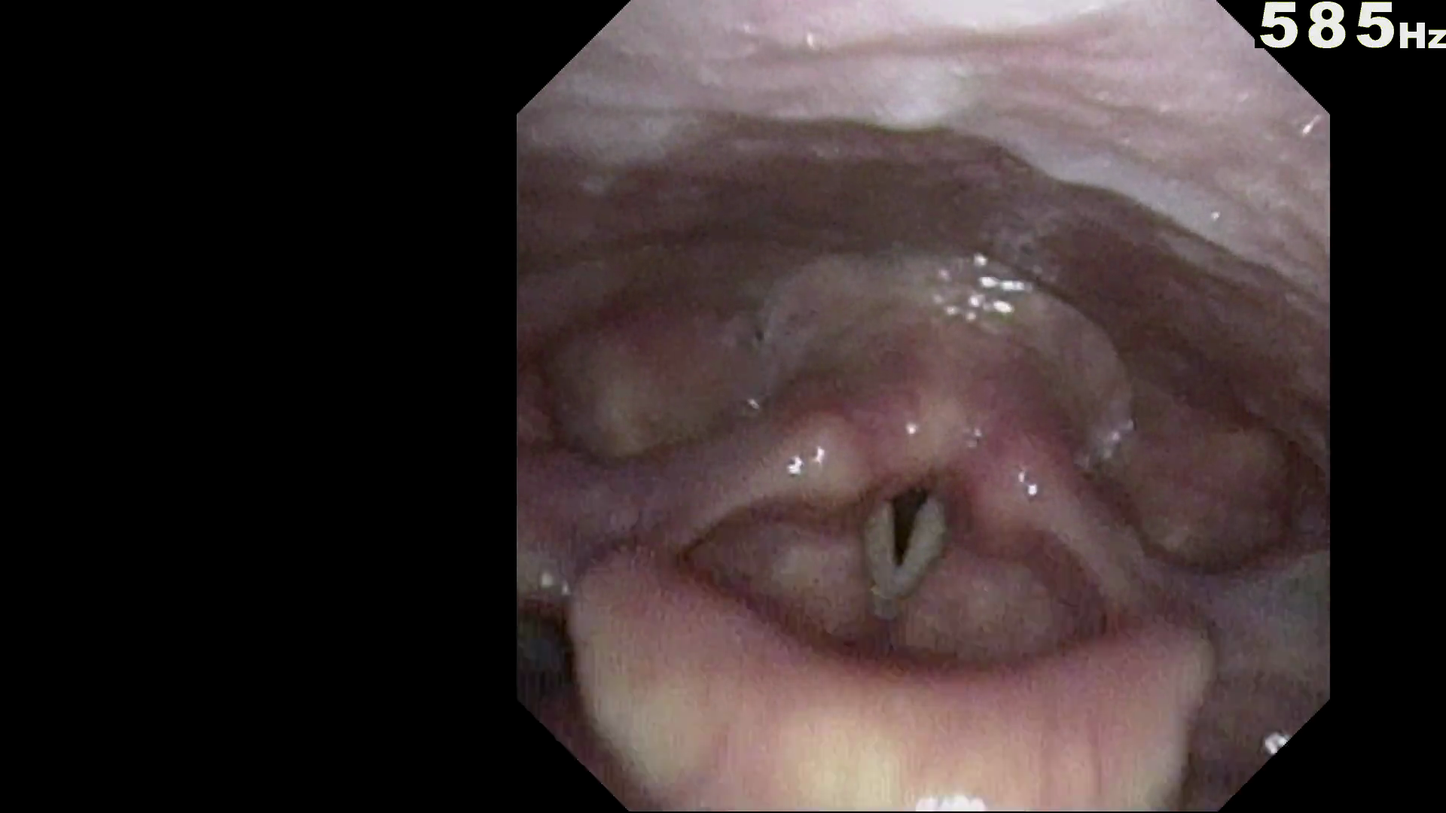epiglottis: (606, 590, 1218, 785)
trachea: (850, 449, 976, 603)
